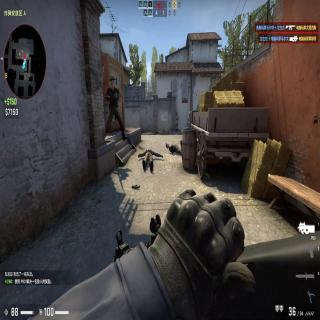T-Body: (105, 75, 127, 139)
T-Head: (109, 76, 115, 88), (167, 141, 170, 149)
